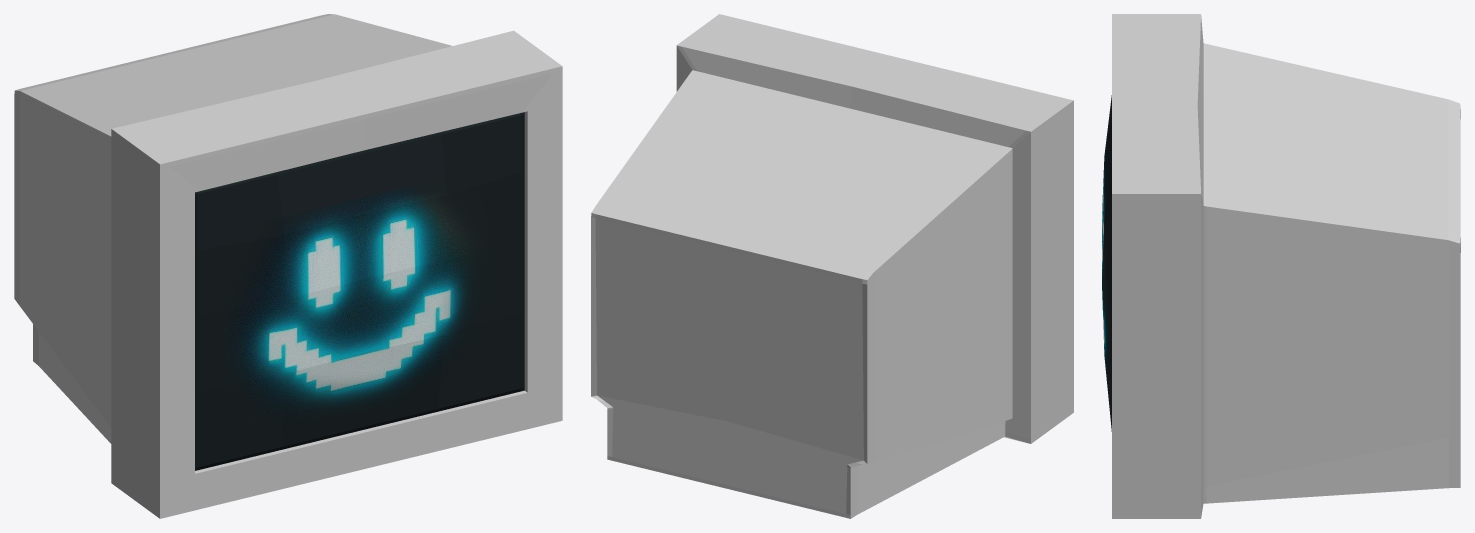
Rendered from MonitorStylised03.glb.
3 views of the same model, side by side, from view 1: azimuth 30°, elevation 25°; view 2: azimuth 150°, elevation 25°; view 3: azimuth 270°, elevation 25° (orthographic). The views are drawn at different scales.
Visible parts, largest first — view 1: Cube; view 2: Cube; view 3: Cube.
Part boxes in pixels (<box>): Cube: <box>14,14,562,518</box>; Cube: <box>591,14,1073,518</box>; Cube: <box>1102,14,1460,518</box>.
Size of the model in its own units: 2.38 by 2 by 2.
2 materials, 1 textured.
